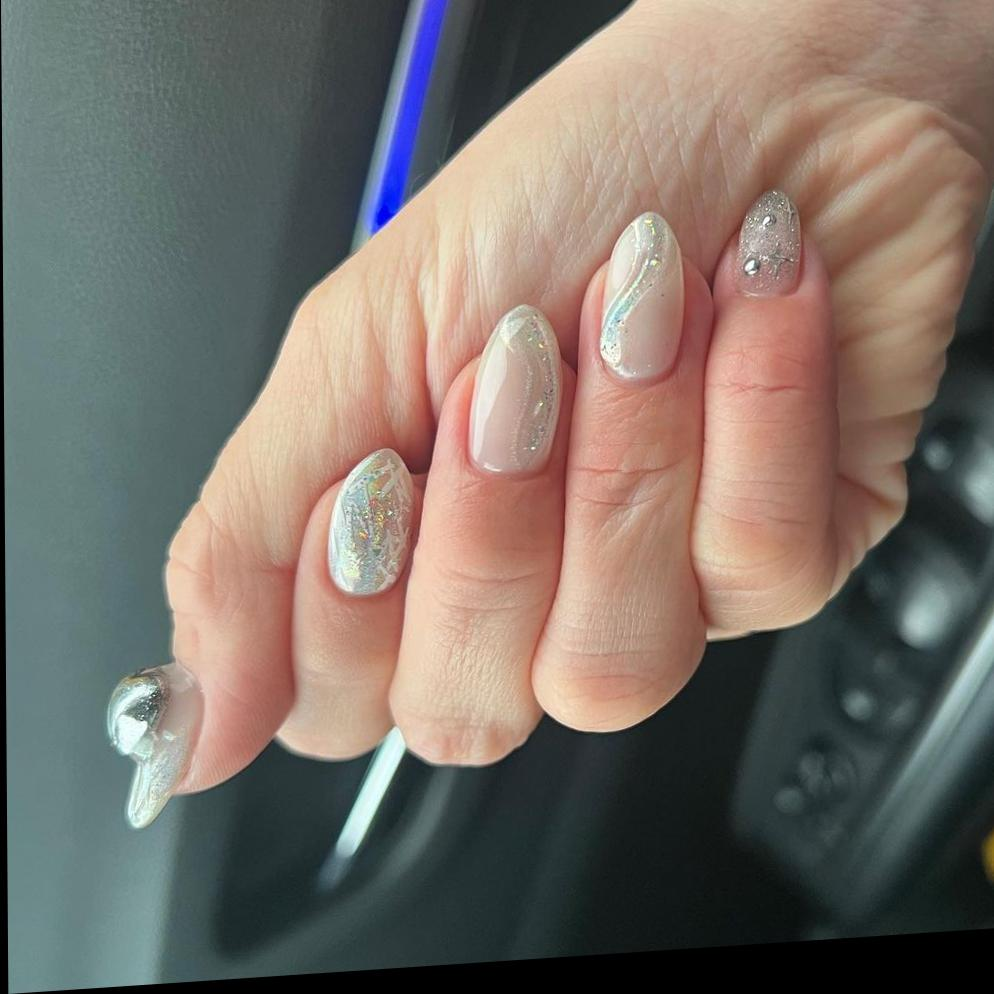nail: (463, 300, 563, 480), (102, 659, 202, 831), (595, 208, 685, 384), (323, 445, 416, 600), (731, 186, 803, 300)
